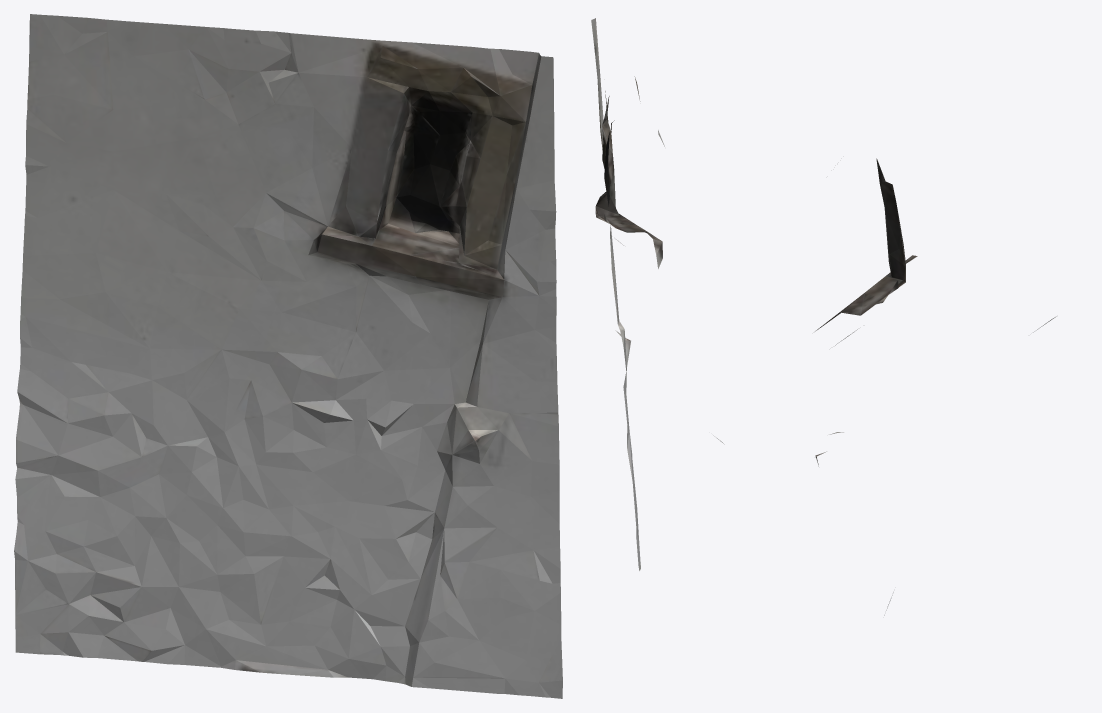
3 views of the same model, side by side, from view 1: azimuth 30°, elevation 25°; view 2: azimuth 150°, elevation 25°; view 3: azimuth 270°, elevation 25° (orthographic). The views are drawn at different scales.
Size of the model in its own units: 2.01 by 3.35 by 1.77.
Materials: 2 (2 with a texture image).
